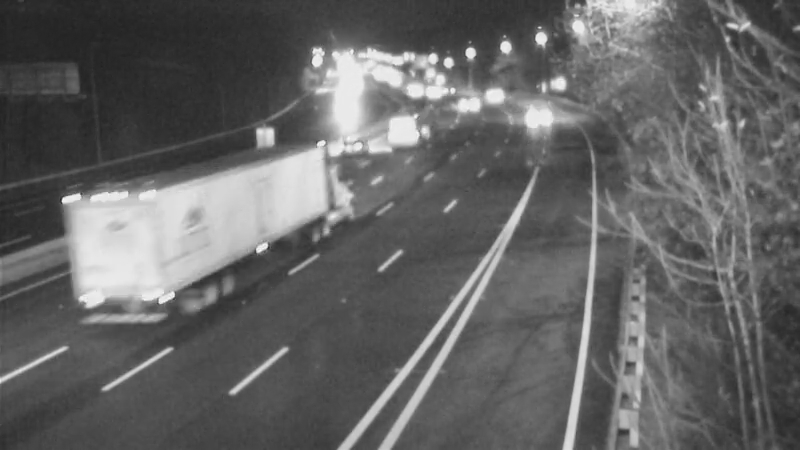vehicle: (86, 210, 166, 290), (463, 72, 513, 122), (409, 69, 459, 119), (444, 82, 494, 132), (506, 89, 556, 139), (378, 101, 428, 151), (335, 116, 385, 166)
